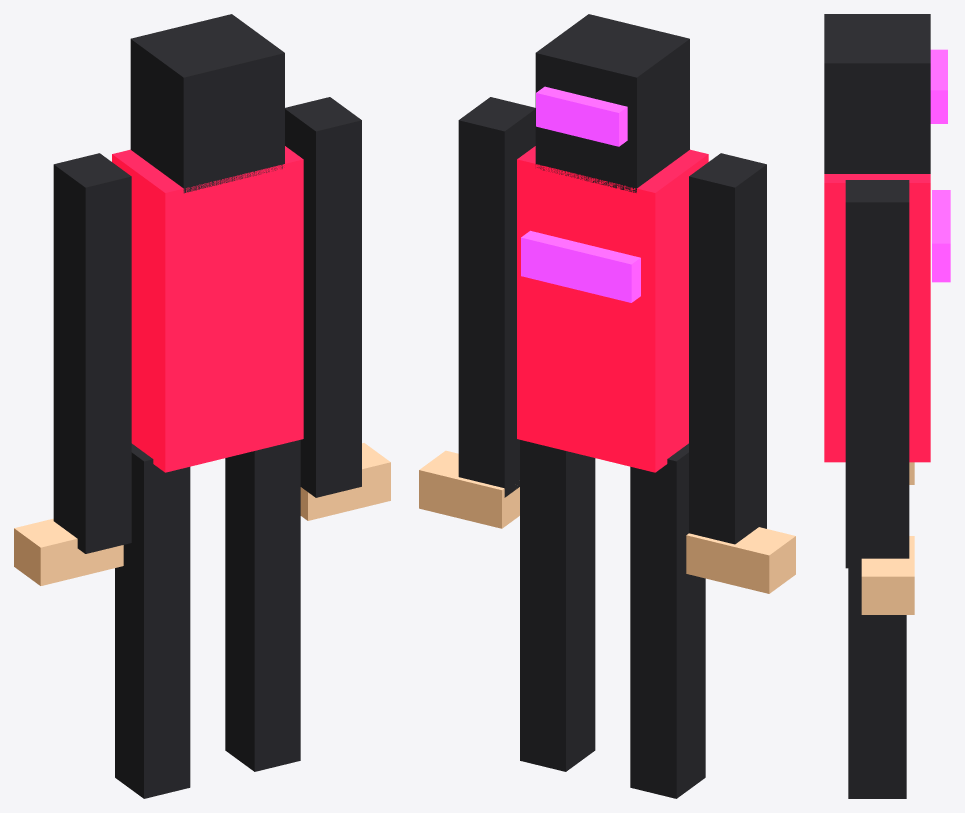
Rendered from sprinter-local-crimson-stalker.glb.
The picture shows the model from 3 angles, left to right: view 1: azimuth 30°, elevation 25°; view 2: azimuth 150°, elevation 25°; view 3: azimuth 270°, elevation 25°; orthographic projection.
Visible parts, largest first — view 1: local-crimson-stalker; view 2: local-crimson-stalker; view 3: local-crimson-stalker.
Boxes of the visible parts, x1,y1,x2,y2 form: local-crimson-stalker: [14, 14, 390, 798]; local-crimson-stalker: [419, 14, 795, 798]; local-crimson-stalker: [824, 14, 950, 798].
Size of the model in its own units: 0.76 by 1.5 by 0.2375.
